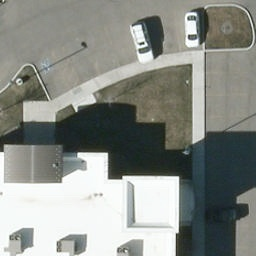car: (130, 24, 158, 65), (184, 13, 202, 48)
